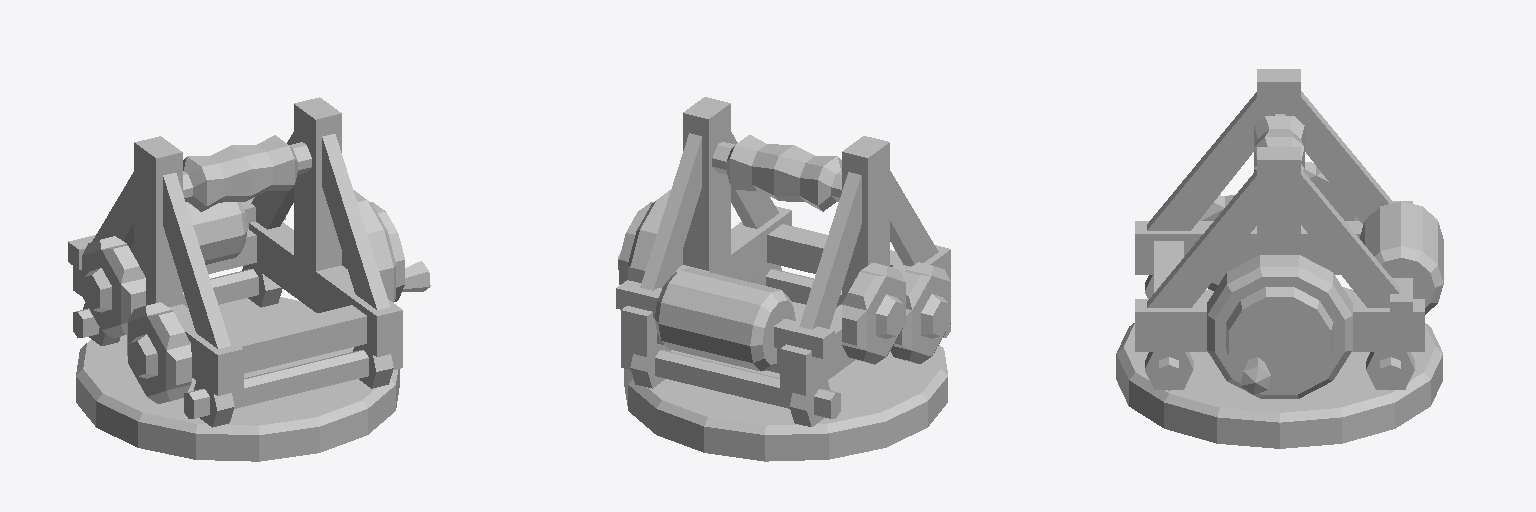
The model's file is building_tower_catapult_red_catapult_turret_red.obj.
The picture shows the model from 3 angles: view 1: azimuth 30°, elevation 25°; view 2: azimuth 150°, elevation 25°; view 3: azimuth 270°, elevation 25°; orthographic projection.
Parts seen in each view (by area): view 1: catapult_turret_red; view 2: catapult_turret_red; view 3: catapult_turret_red.
Part boxes in pixels (x1,y1,x2,y2): catapult_turret_red: (68, 97, 430, 461); catapult_turret_red: (616, 97, 950, 461); catapult_turret_red: (1116, 69, 1443, 448).
Bounding box in the file's own units: 0.7105 × 0.5641 × 0.6306.